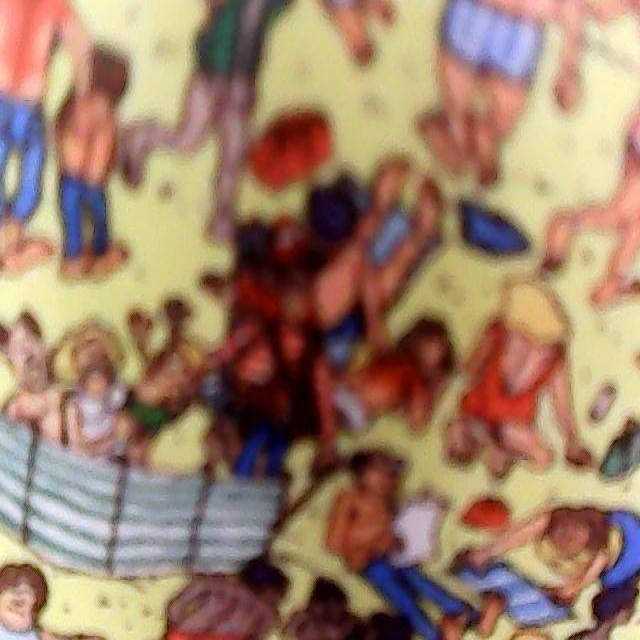waldo: (269, 224, 319, 328)
